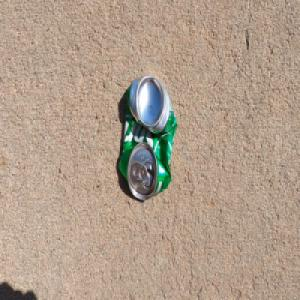SodaCan: (117, 70, 177, 203)
